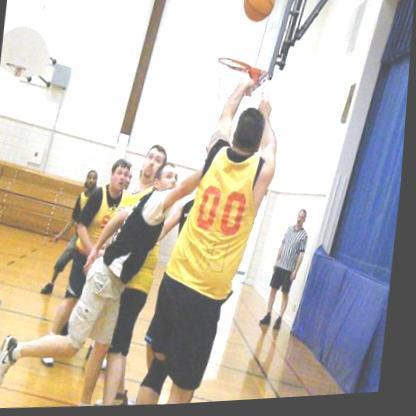basketball: (242, 0, 280, 25)
rim: (218, 58, 253, 77)
